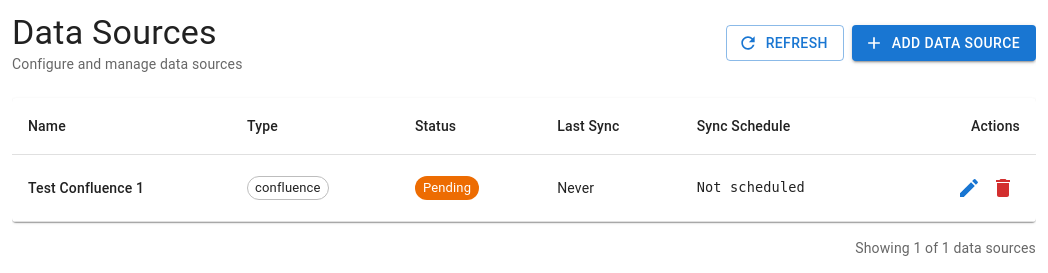
DataSourceManager › should refresh data when refresh button is clicked
The image size is (1048, 273).
Expected: the text "Test Confluence 1" is shown, top-left (28, 180), bottom-right (144, 196)
What coordinates should you click on to do the following:
click the button "Refresh"
I would click on:
 (785, 43)
Its box is top-left (726, 25), bottom-right (844, 61).
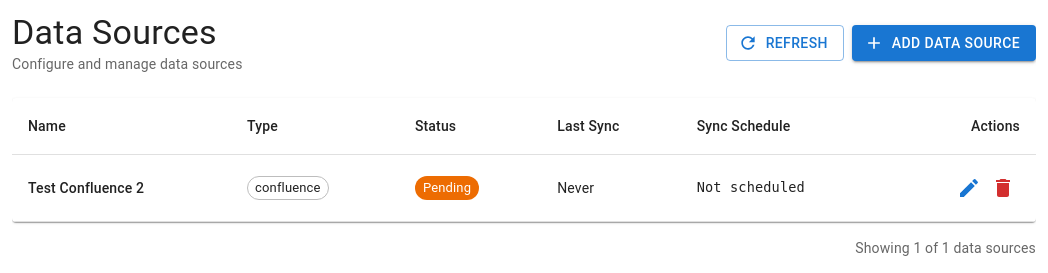
Result: the text "Test Confluence 2" is shown at top-left (28, 180), bottom-right (144, 196)
